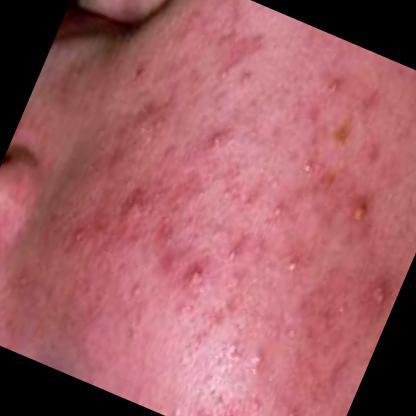Acne: (358, 272, 396, 320), (342, 188, 376, 235), (261, 188, 295, 232), (177, 257, 212, 297), (276, 244, 310, 282)
